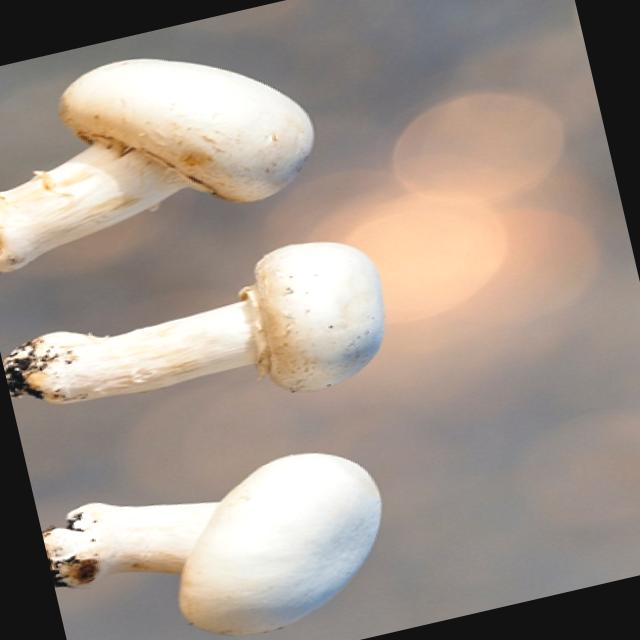Agaricus bisporus: (0, 227, 402, 458), (0, 20, 332, 278), (36, 437, 406, 640)
